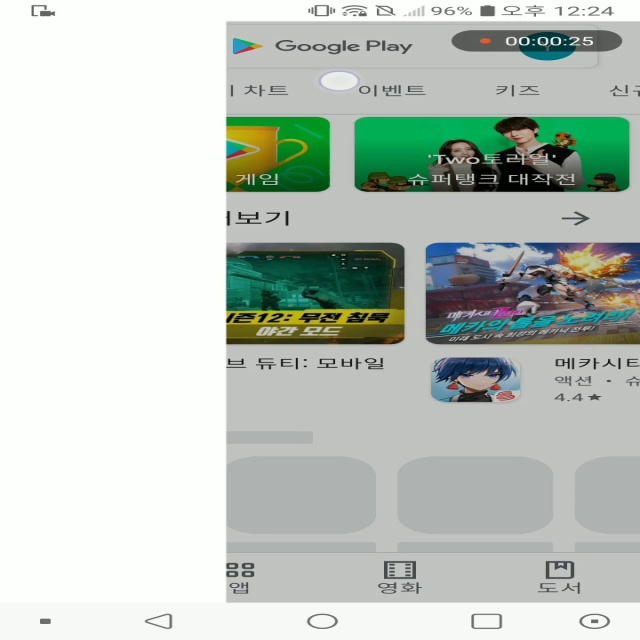Cursor: (318, 71, 362, 93)
